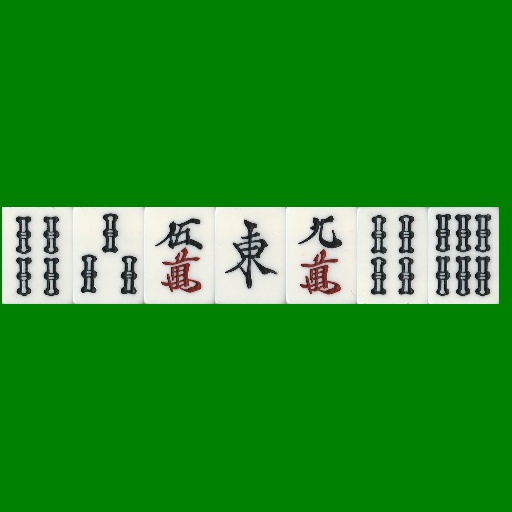3s: (73, 207, 144, 304)
4s: (2, 207, 73, 304), (357, 207, 428, 304)
5m: (144, 207, 215, 304)
6s: (428, 207, 499, 304)
9m: (286, 207, 357, 304)
east: (215, 207, 286, 304)
